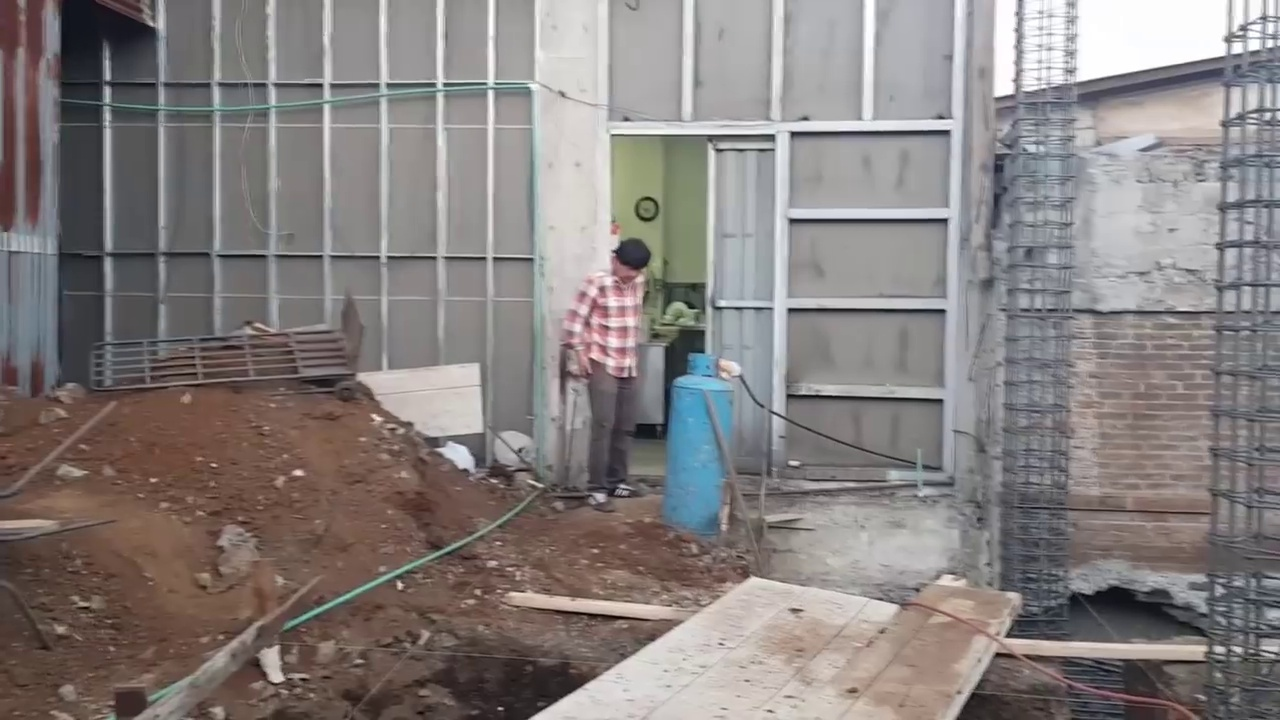helmet-off: (611, 239, 650, 283)
person: (563, 234, 667, 505)
